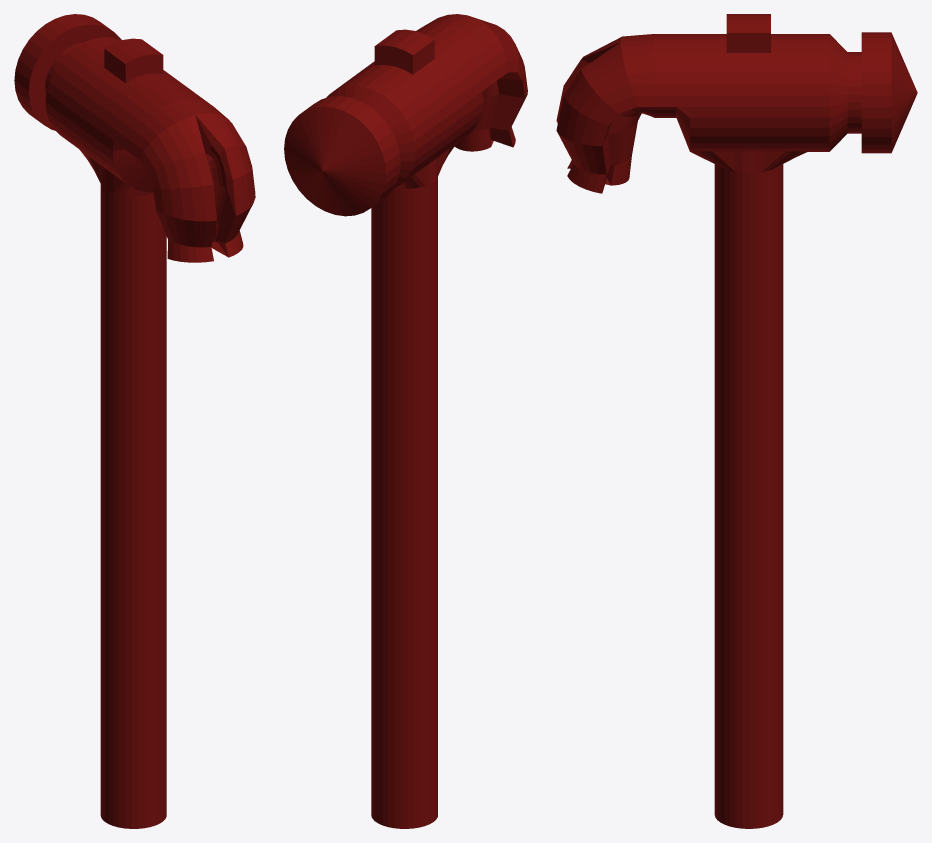
File: testHammer.fbx
The picture shows the model from 3 angles, left to right: view 1: azimuth 30°, elevation 25°; view 2: azimuth 150°, elevation 25°; view 3: azimuth 270°, elevation 25°; orthographic projection. The views are drawn at different scales.
Visible parts, largest first — view 1: Cylinder.001; view 2: Cylinder.001; view 3: Cylinder.001.
Part boxes in pixels (x1,y1,x2,y2): Cylinder.001: [14, 14, 255, 828]; Cylinder.001: [284, 14, 527, 828]; Cylinder.001: [556, 14, 917, 828].
Bounding box in the file's own units: 352 × 2556 × 1052.
